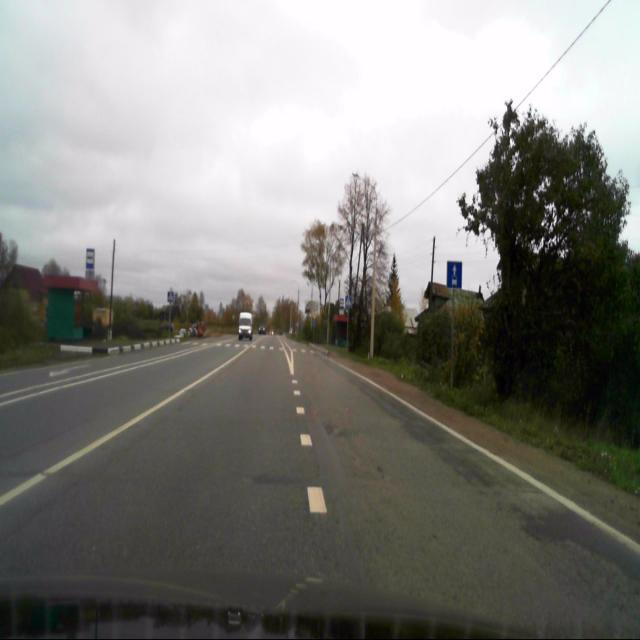road sign: (446, 260, 462, 288), (86, 251, 96, 277)
